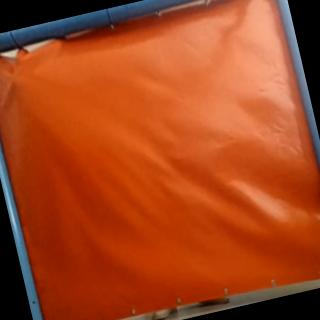Hit-hRxx: (4, 73, 22, 87)
